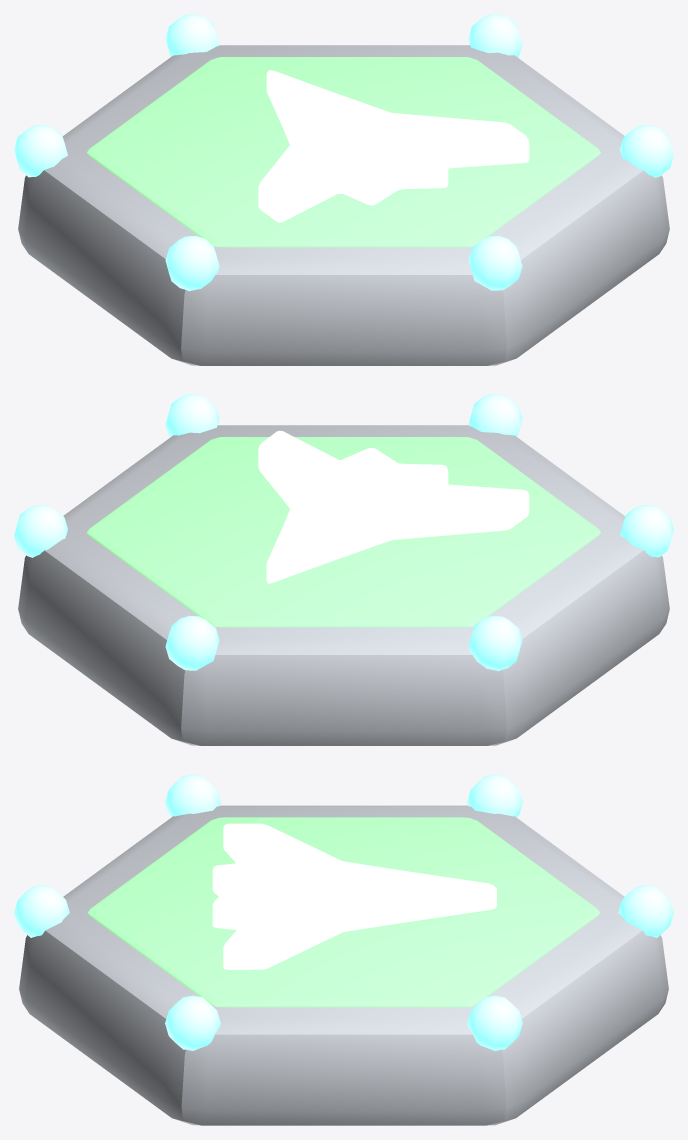
Rendered from power_life.glb.
3 renders of one model, top to bottom at view 1: azimuth 30°, elevation 25°; view 2: azimuth 150°, elevation 25°; view 3: azimuth 270°, elevation 25°, orthographic.
Parts seen in each view (by area): view 1: power_life; view 2: power_life; view 3: power_life.
Part boxes in pixels (box(x1,y1,x2,y2)): power_life: box(14, 14, 673, 365); power_life: box(14, 394, 673, 745); power_life: box(14, 774, 673, 1125).
Bounding box in the file's own units: 0.5177 × 0.13 × 0.59.
